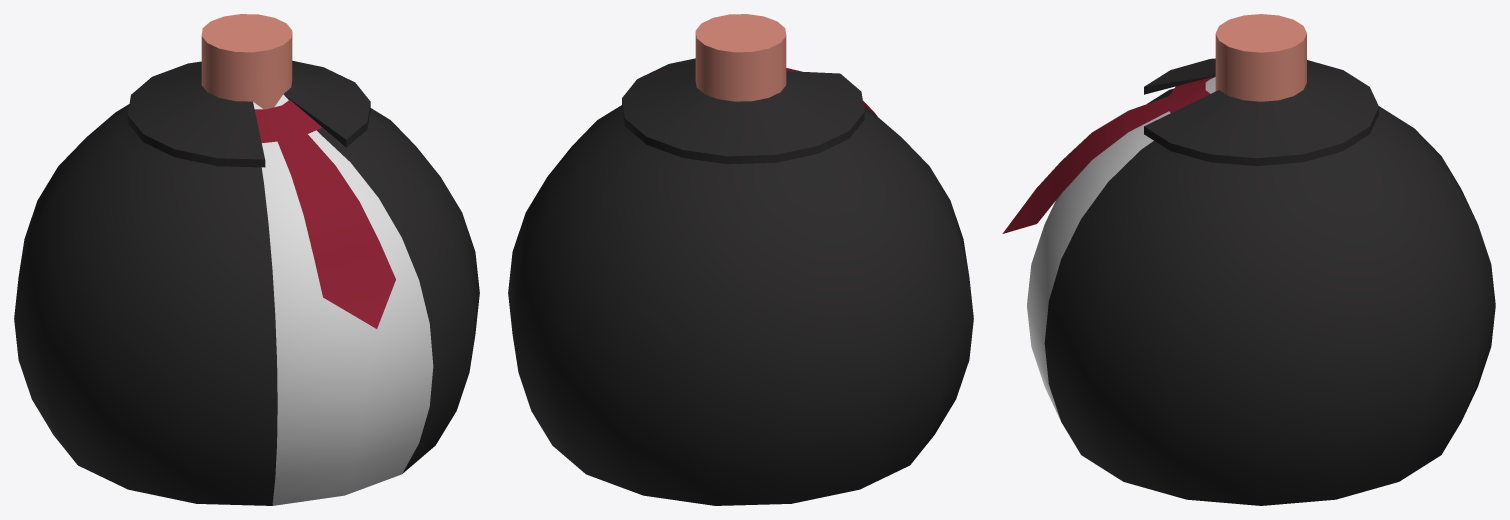
Rendered from business-body.fbx.
The picture shows the model from 3 angles, left to right: view 1: azimuth 30°, elevation 25°; view 2: azimuth 150°, elevation 25°; view 3: azimuth 270°, elevation 25°; orthographic projection.
Visible parts, largest first — view 1: business-body; view 2: business-body; view 3: business-body.
Boxes of the visible parts, x1=… form: business-body: x1=14, y1=14, x2=479, y2=505; business-body: x1=508, y1=14, x2=973, y2=505; business-body: x1=1002, y1=14, x2=1495, y2=505.
Bounding box in the file's own units: 200 × 184 × 211.
